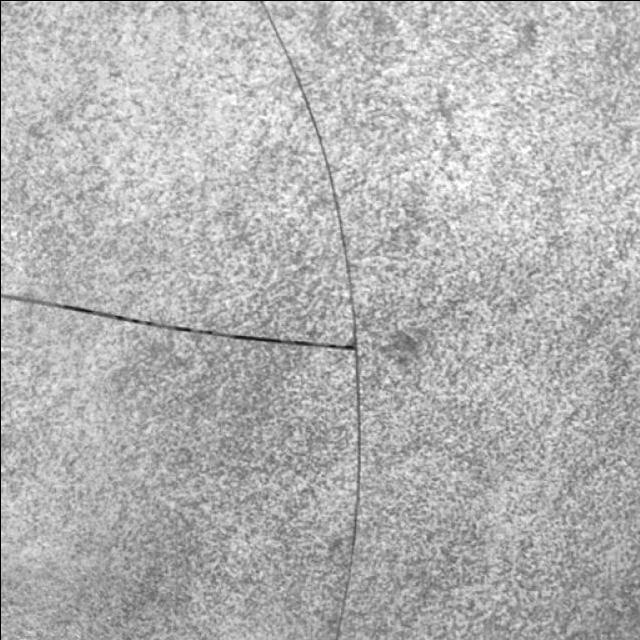SurfaceCrack: (0, 255, 350, 384)
